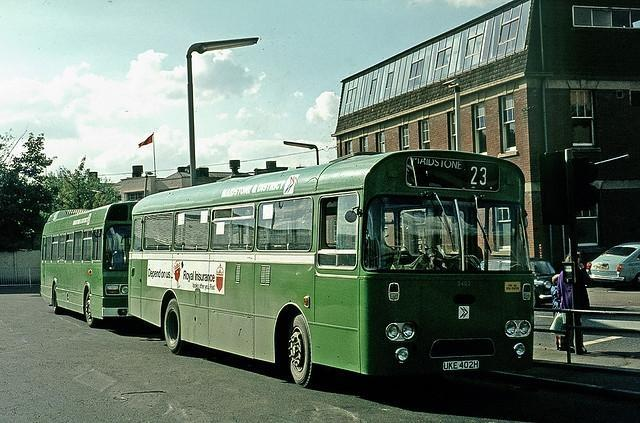bus: (125, 151, 534, 389), (39, 200, 141, 330)
car: (586, 242, 640, 290), (527, 258, 556, 300)
